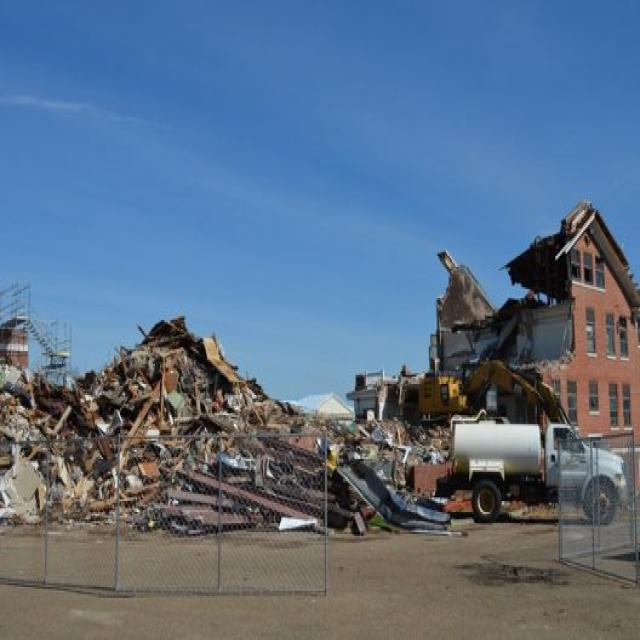Severely_Damaged: (3, 280, 445, 552), (454, 195, 640, 439)
